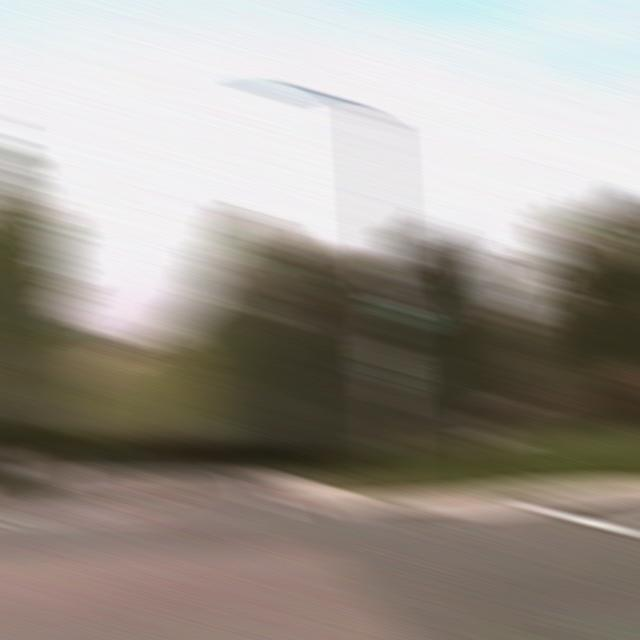speedLimit35: (365, 340, 412, 387)
